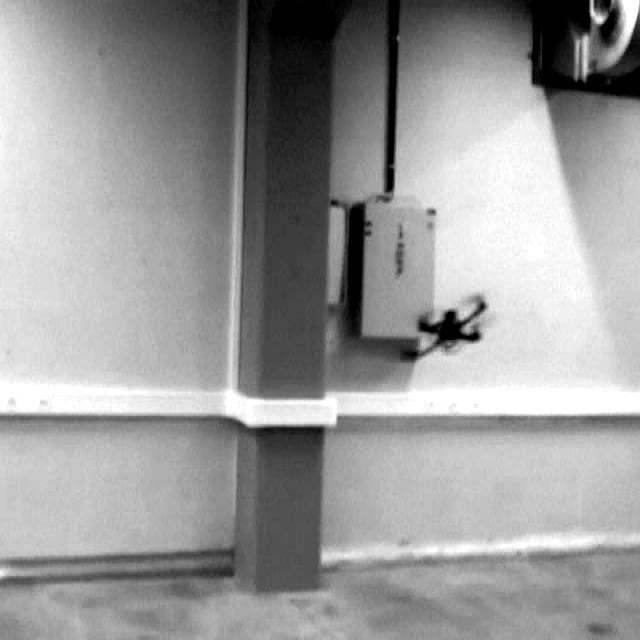drone: (404, 290, 486, 362)
